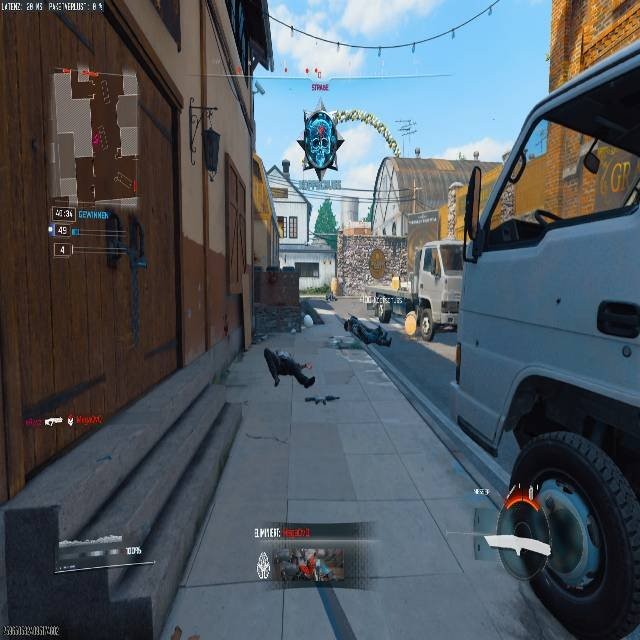player: (302, 108, 339, 177)
